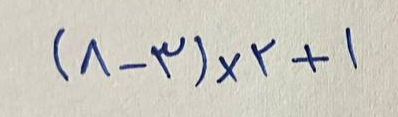character: (150, 36, 186, 77), (79, 39, 111, 78), (291, 44, 331, 73), (252, 40, 276, 77), (52, 28, 69, 80), (193, 37, 208, 88), (217, 54, 241, 85), (345, 28, 359, 67), (118, 63, 149, 80)
